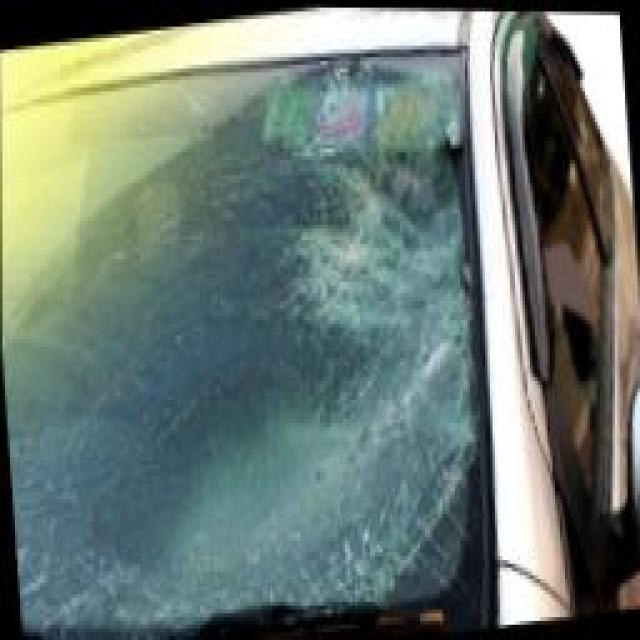Windshield: (0, 48, 485, 640)
